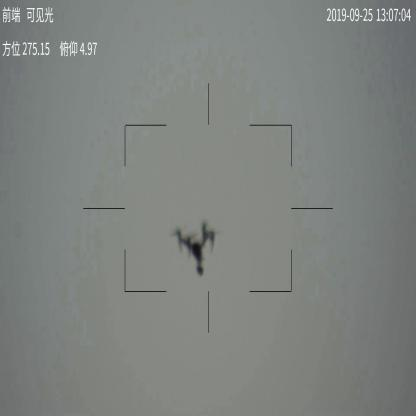uav: (173, 220, 222, 276)
